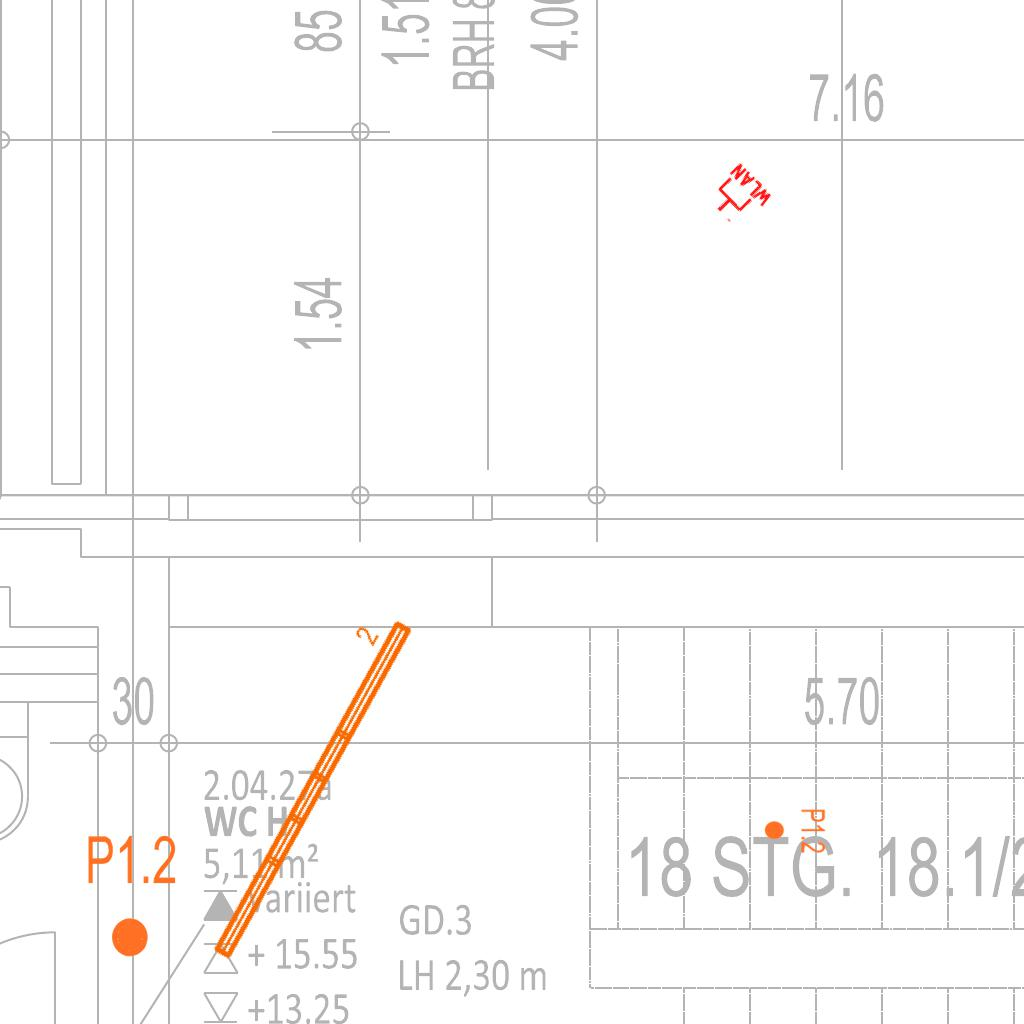Ambulanz_Pendelleuchte_LED: (183, 601, 420, 967)
Downlight_LED_Einbauleuchten_Flur: (85, 832, 178, 960), (763, 808, 827, 854)
WLAN: (702, 160, 776, 234)
